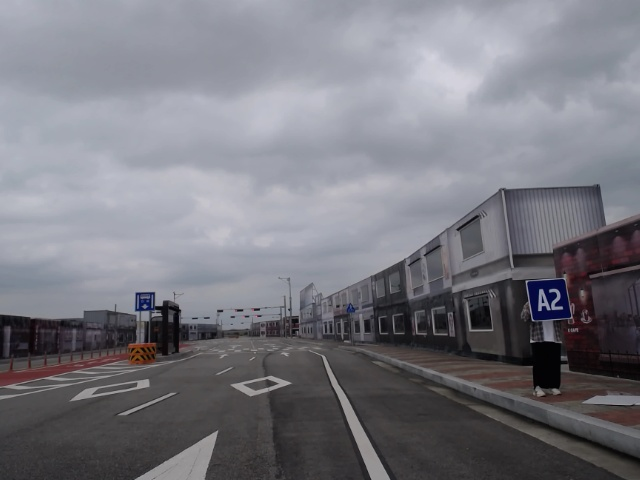delivery_a2: (526, 278, 572, 321)
